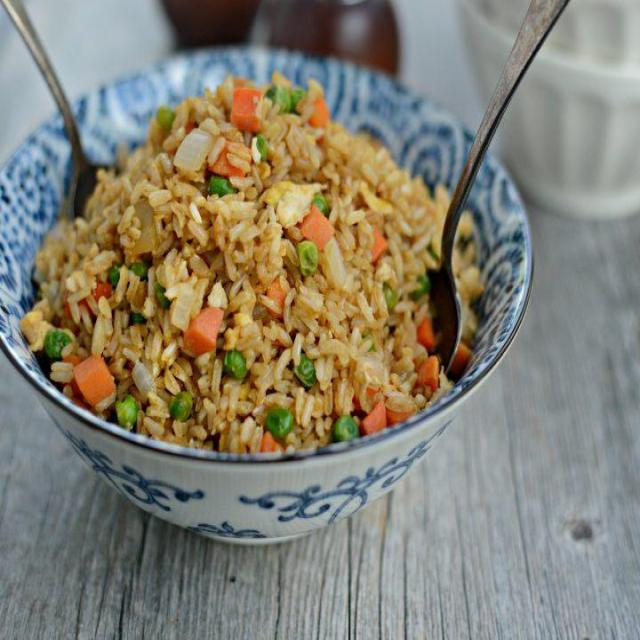Nasi Goreng: (20, 70, 480, 455)
